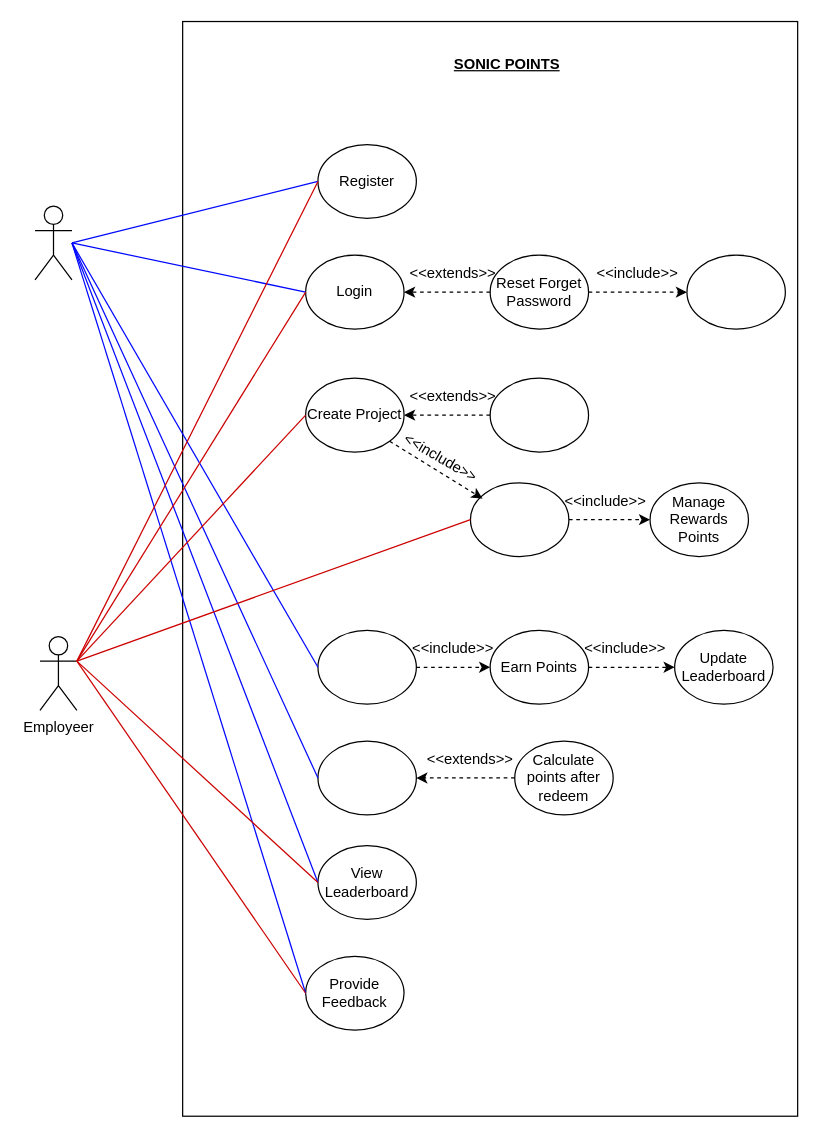
Some shapes in this 819 by 1138 pixel diagram are drawn without their labels. The shapes that lost their labels are listed below. From the top down, each one's box as (x1, y1, x2, y2) in pixels, then its label:
(34, 205, 72, 280): Employee
(686, 254, 785, 329): Send OTP
(489, 377, 589, 452): View Project Report
(469, 482, 569, 557): Create Taks
(317, 629, 416, 704): Completed task
(317, 740, 416, 815): Redeem Points
